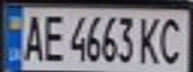3: (115, 12, 139, 64)
4: (66, 11, 87, 63)
6: (100, 12, 121, 63), (84, 12, 103, 63)
A: (18, 10, 48, 62)
C: (154, 14, 190, 66)
E: (39, 11, 69, 63)
K: (136, 12, 166, 65)
